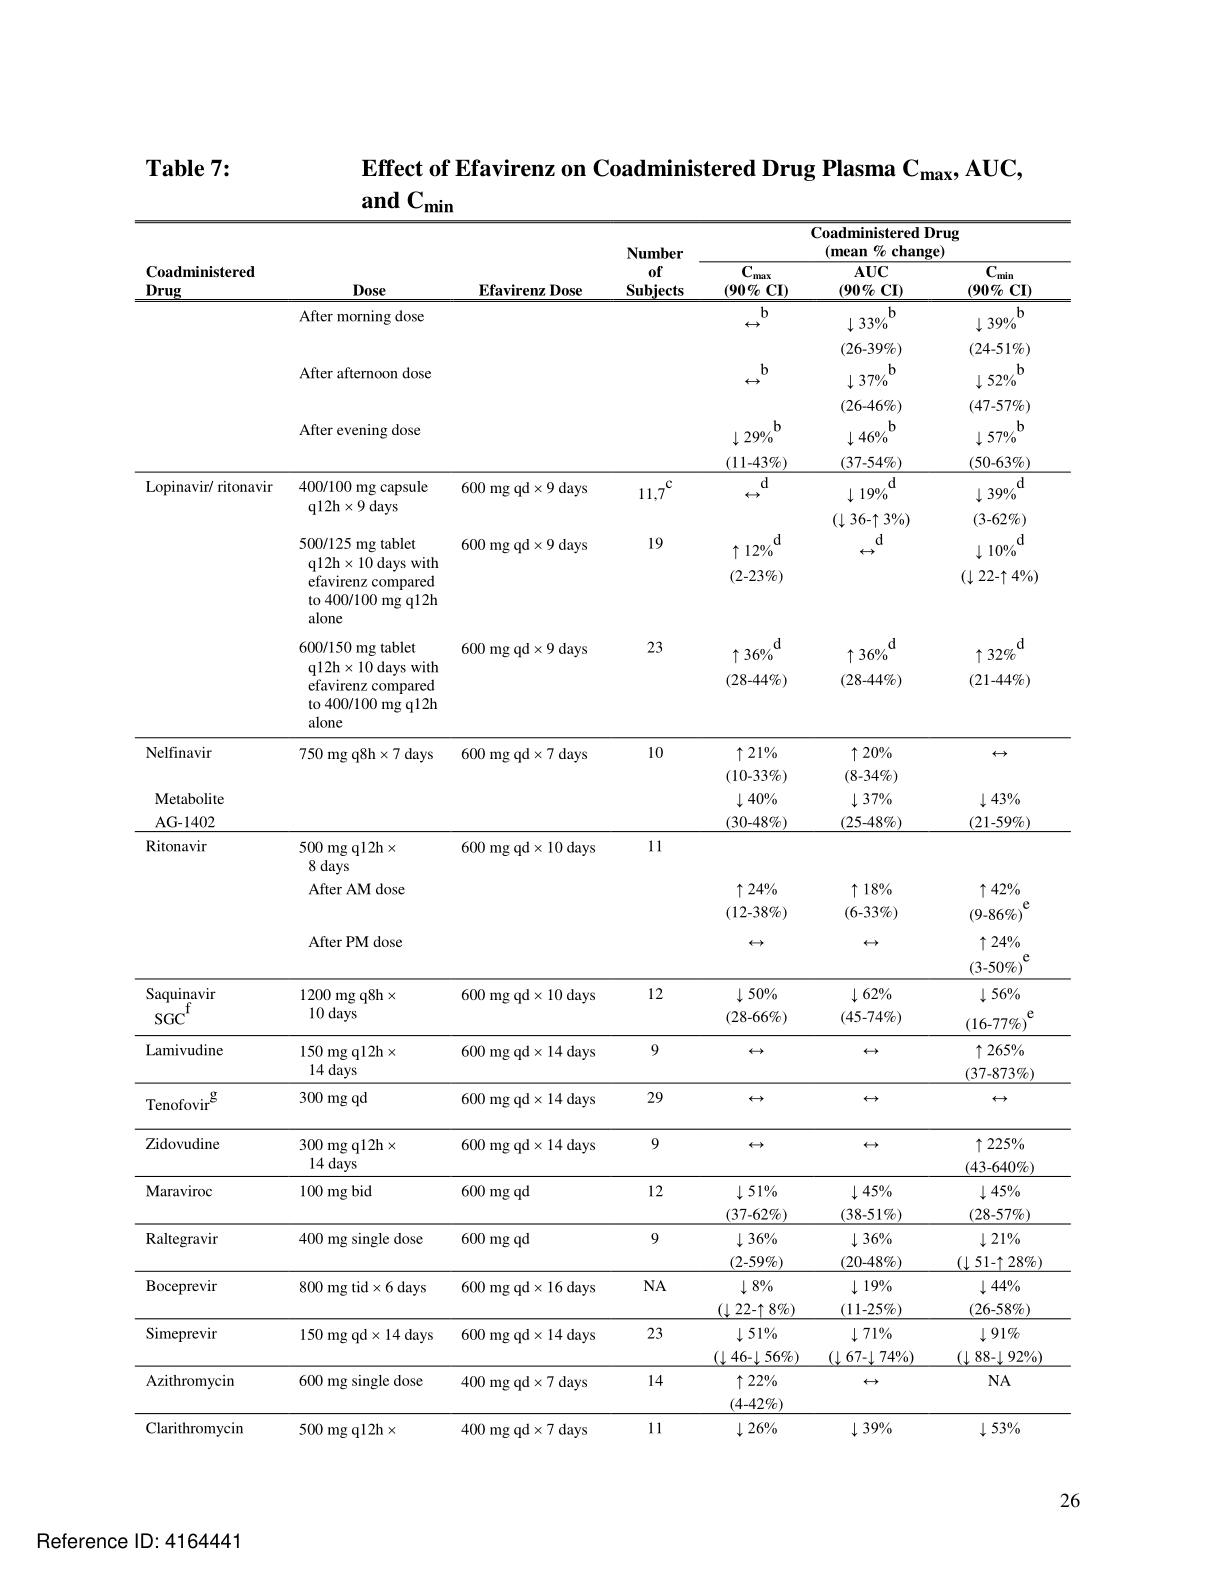partial_lined_merged_cells: (131, 219, 1072, 1445)
